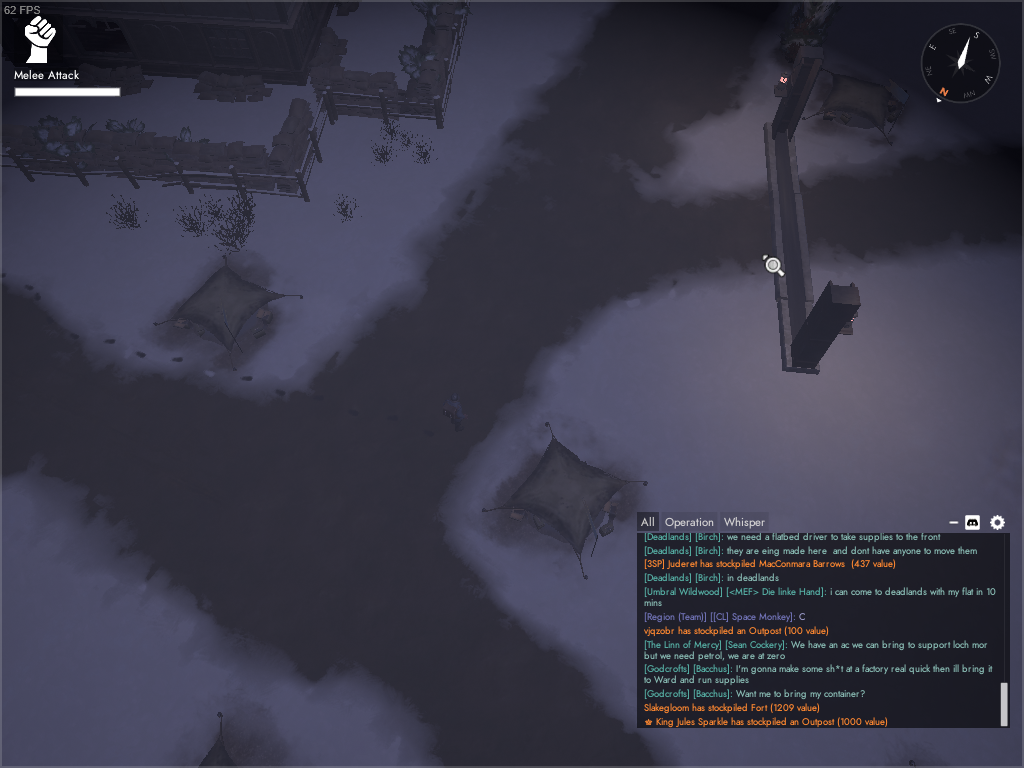foxhole: (481, 421, 650, 582), (152, 256, 306, 371), (802, 66, 912, 148), (195, 710, 241, 768)
player: (441, 392, 466, 433)
sandbag: (80, 127, 182, 183), (174, 140, 273, 196), (308, 64, 400, 119), (269, 98, 316, 194), (1, 125, 85, 178), (404, 52, 452, 121), (69, 63, 154, 96), (421, 2, 466, 59), (192, 71, 272, 103), (311, 26, 348, 74)
